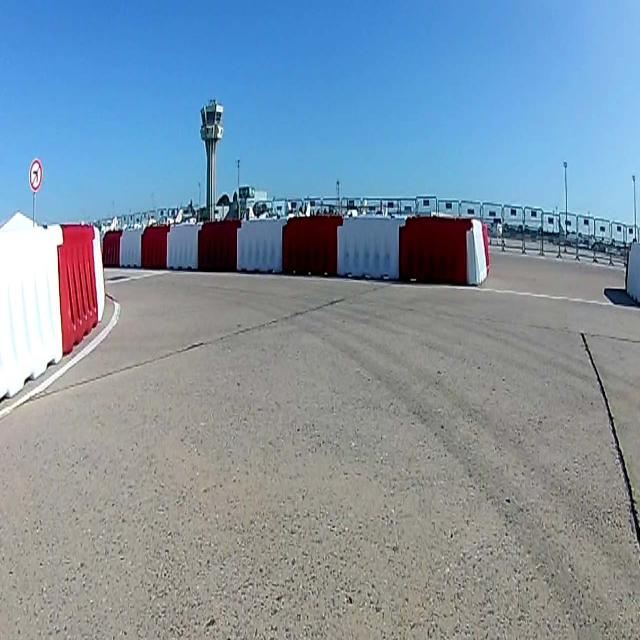soladonulmez: (29, 160, 41, 192)
